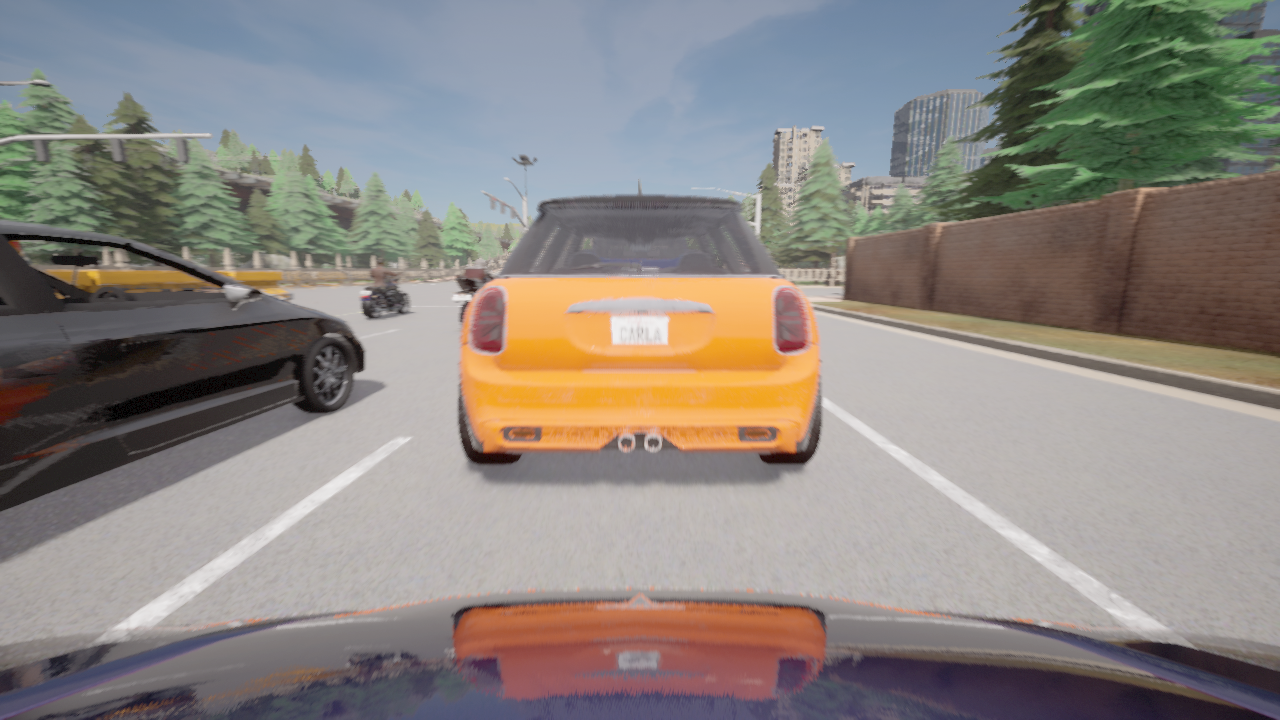cyclist: (0, 588, 1279, 719), (457, 179, 822, 464), (360, 271, 410, 319), (451, 276, 489, 326)
